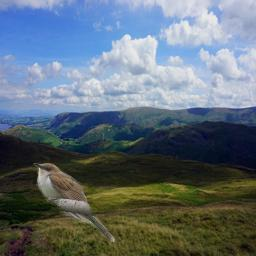Cuckoo: (33, 163, 115, 243)
